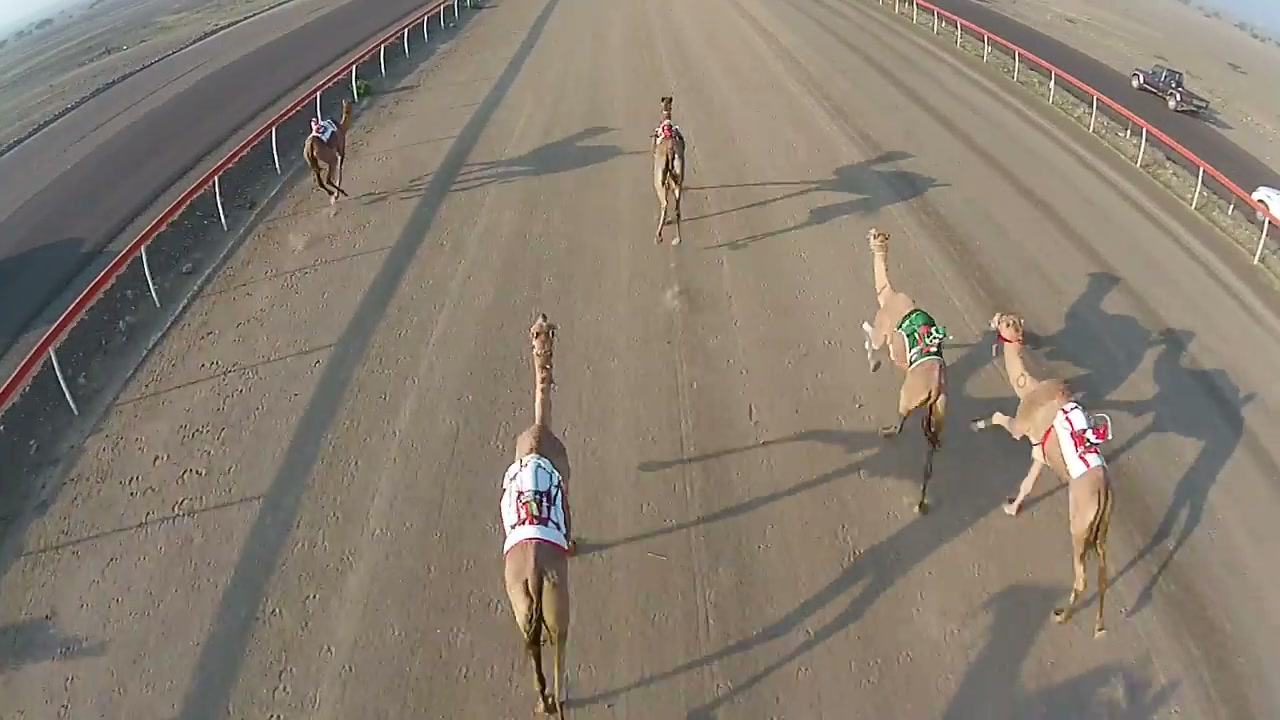animal_footprint: (102, 274, 295, 542)
